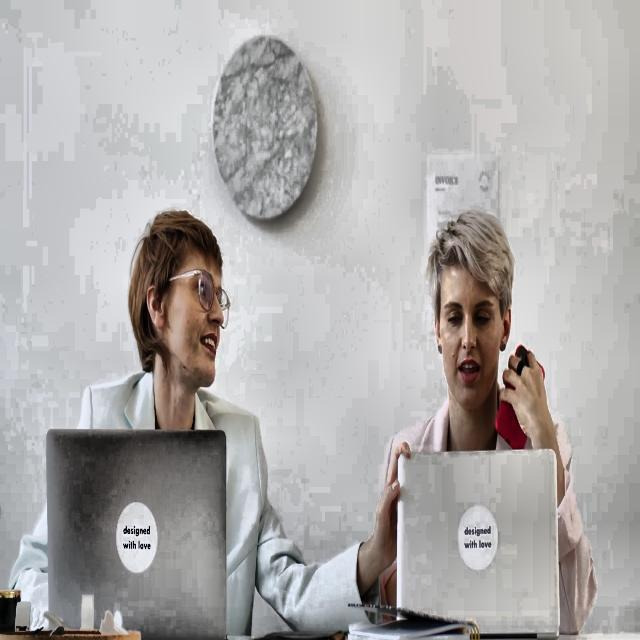Phone: (495, 343, 546, 450)
